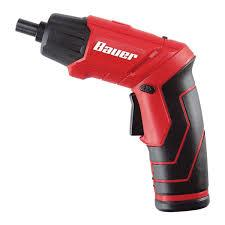screwdriver: (14, 12, 210, 212)
